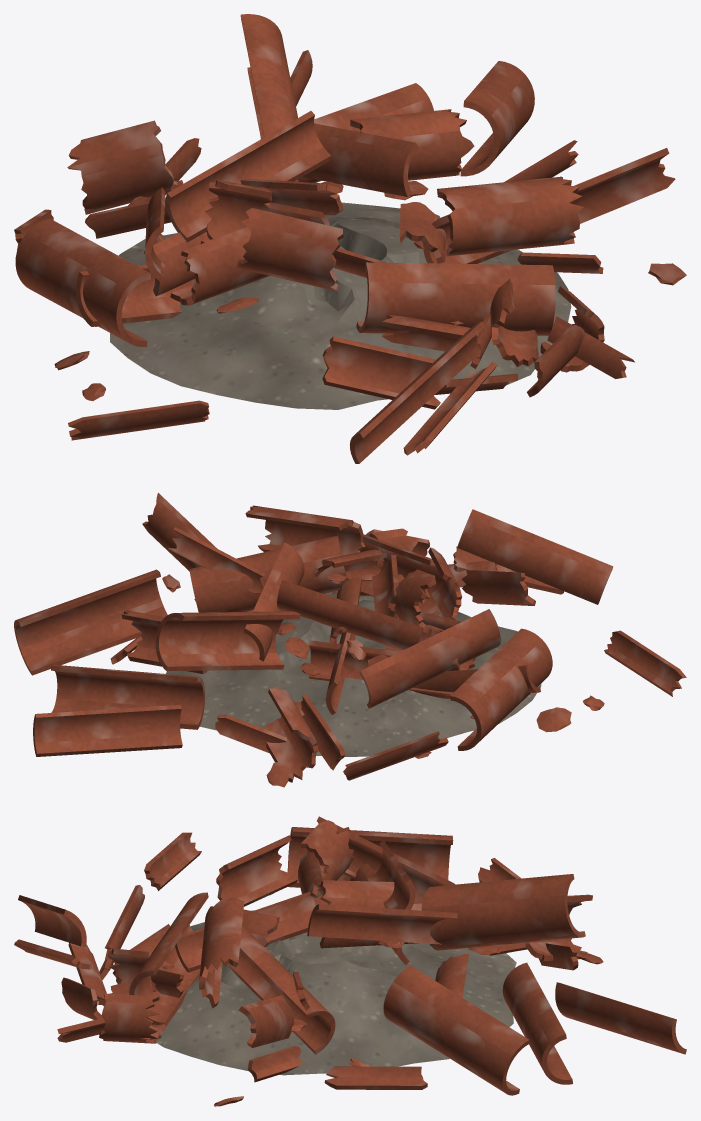
File: broken-roof-tiles.glb
The picture shows the model from 3 angles, top to bottom: view 1: azimuth 30°, elevation 25°; view 2: azimuth 150°, elevation 25°; view 3: azimuth 270°, elevation 25°; orthographic projection. The views are drawn at different scales.
Parts seen in each view (by area): view 1: Broken_Roof_Tiles; view 2: Broken_Roof_Tiles; view 3: Broken_Roof_Tiles.
Part boxes in pixels (x1,y1,x2,y2): Broken_Roof_Tiles: (14, 14, 686, 463); Broken_Roof_Tiles: (14, 493, 686, 787); Broken_Roof_Tiles: (14, 816, 686, 1106).
Bounding box in the file's own units: 1.66 × 0.4098 × 1.76.
2 materials, 2 textured.
